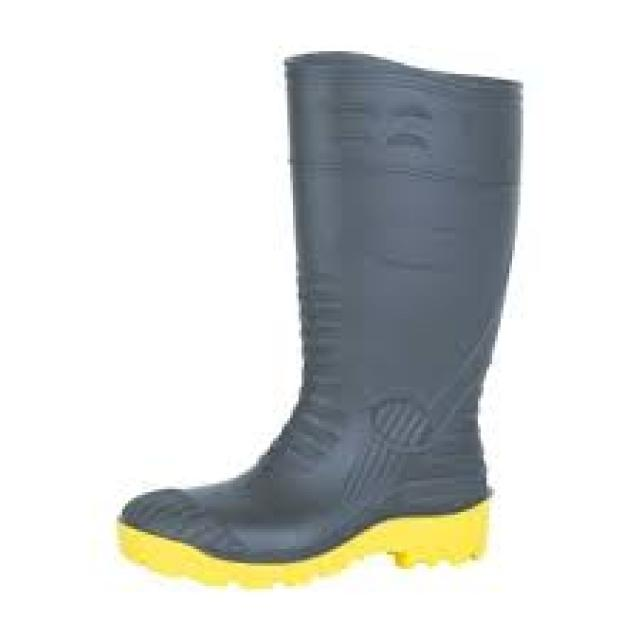shoes: (119, 52, 518, 587)
